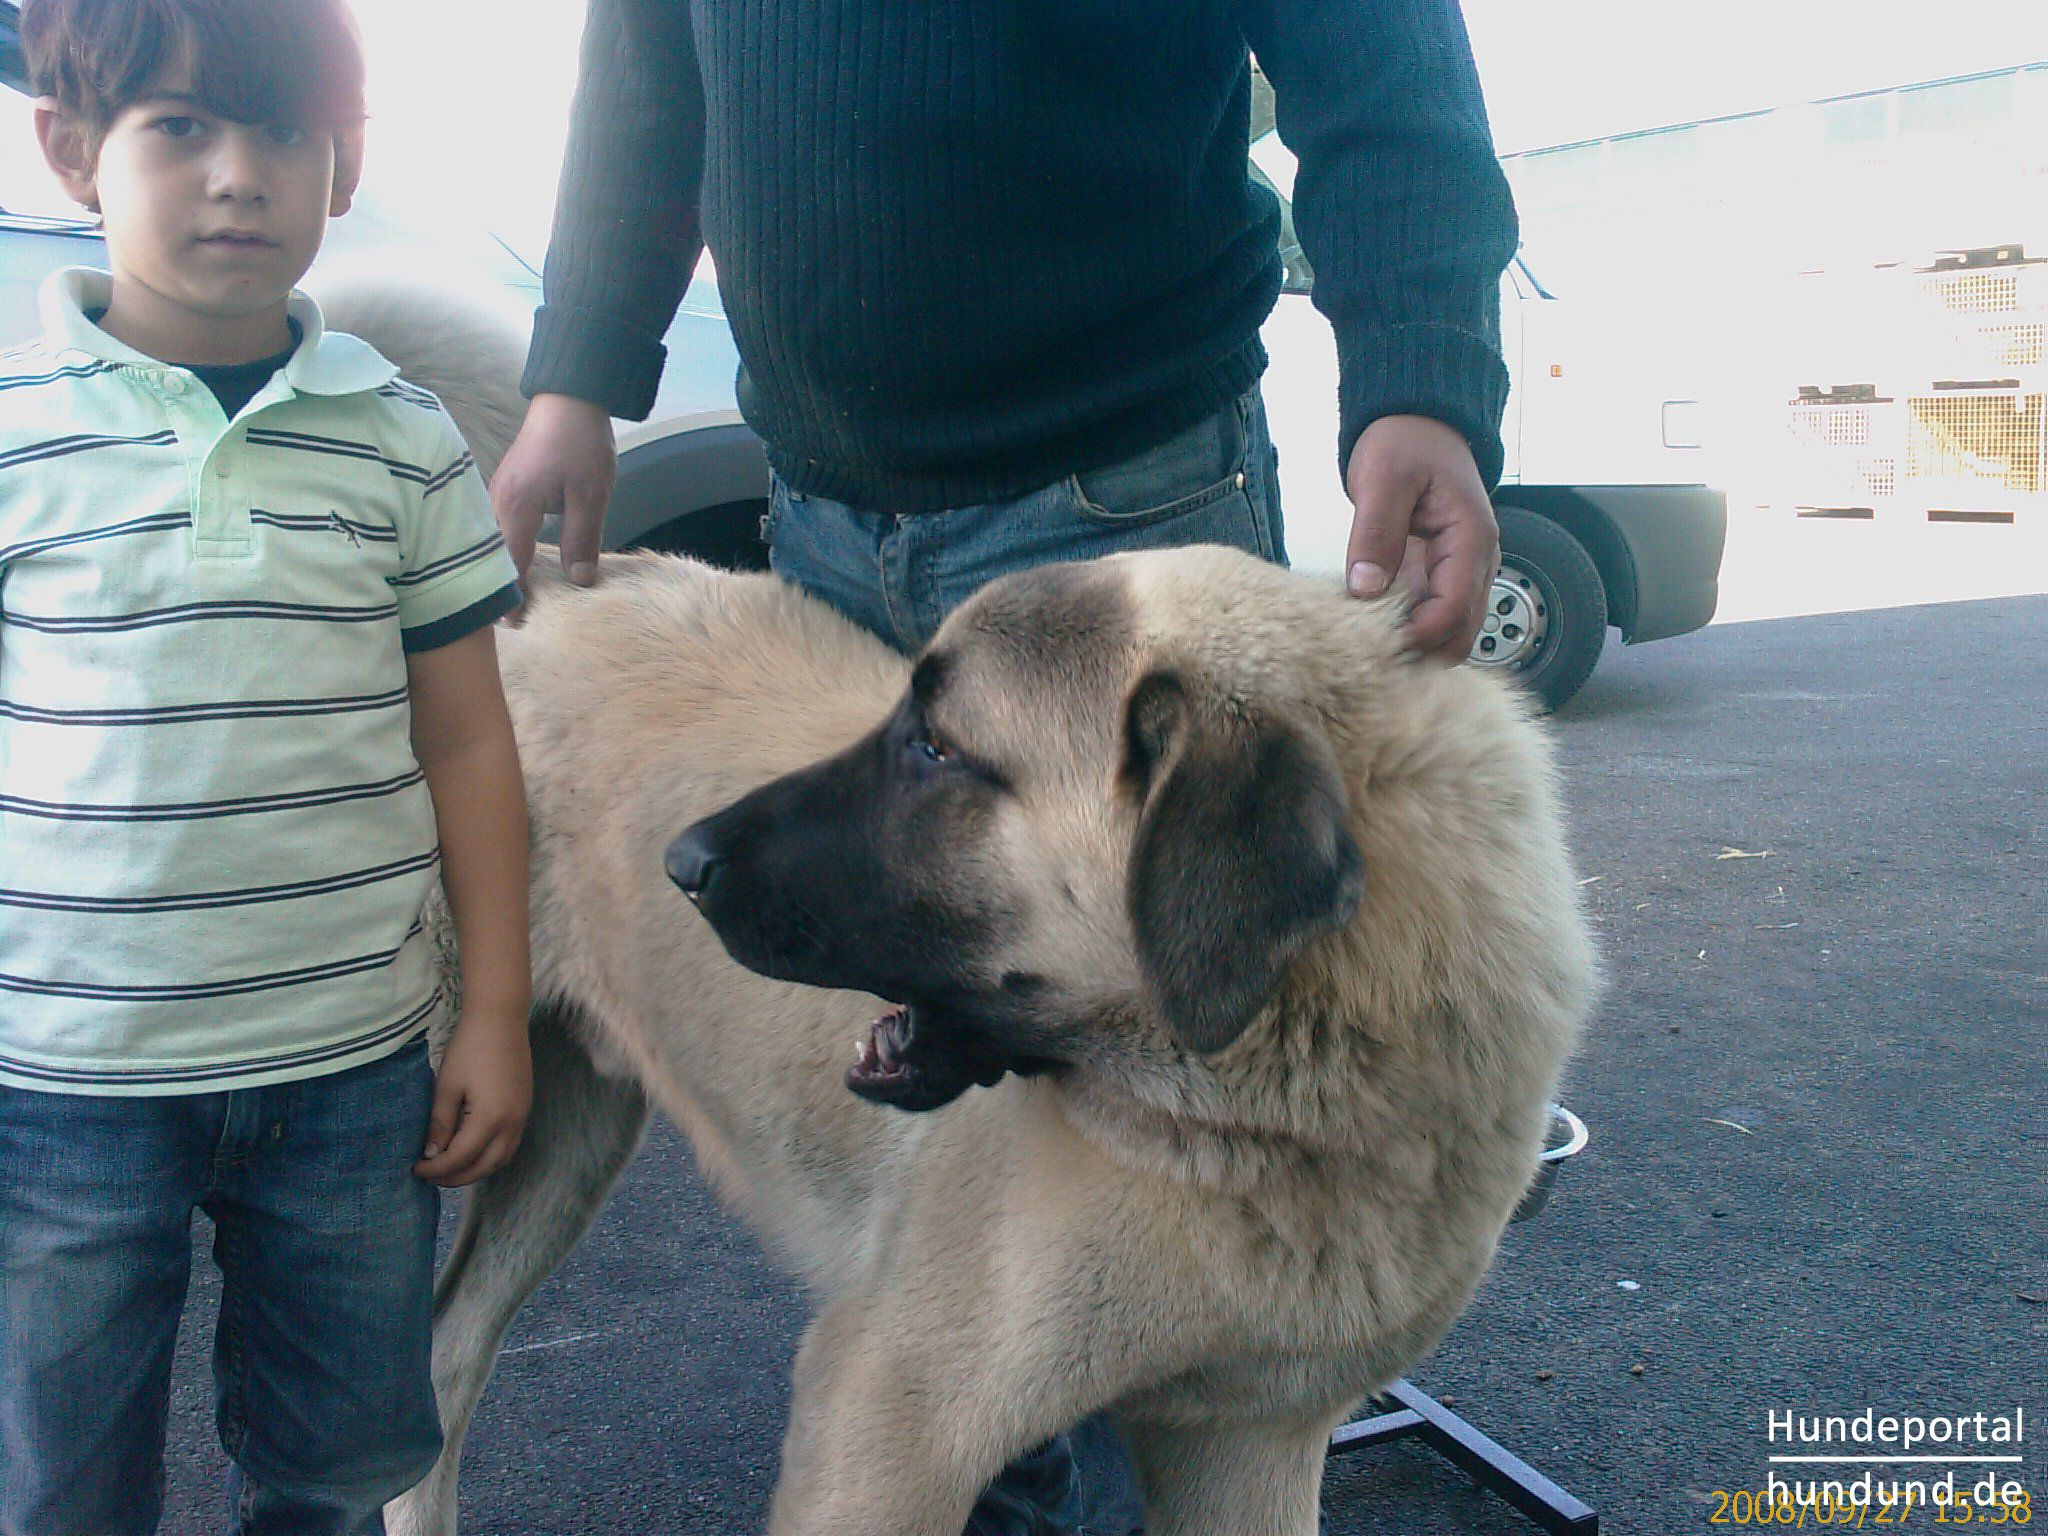kangal: (382, 544, 1610, 1536)
person: (0, 0, 537, 1536), (485, 0, 1522, 667)
